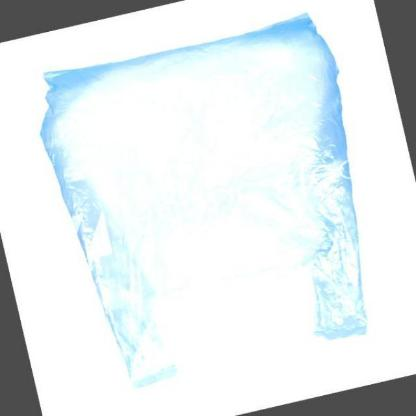Others: (40, 13, 368, 390)
